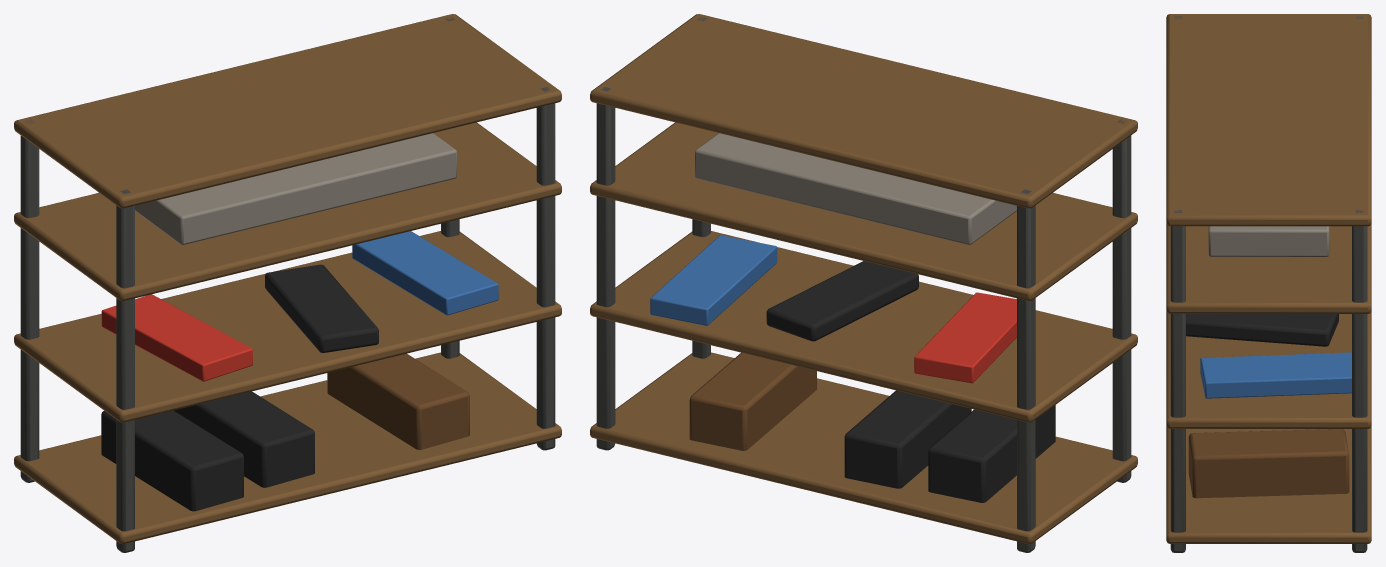
The model's file is KeGiay_ChanCau.glb.
The picture shows the model from 3 angles, left to right: view 1: azimuth 30°, elevation 25°; view 2: azimuth 150°, elevation 25°; view 3: azimuth 270°, elevation 25°; orthographic projection. The views are drawn at different scales.
Visible parts, largest first — view 1: KeGiay_ChanCau; view 2: KeGiay_ChanCau; view 3: KeGiay_ChanCau.
Part boxes in pixels (box(x1,y1,x2,y2)): KeGiay_ChanCau: box(14, 14, 561, 552); KeGiay_ChanCau: box(590, 14, 1137, 552); KeGiay_ChanCau: box(1166, 14, 1371, 552).
Size of the model in its own units: 0.8 by 0.62 by 0.34.
